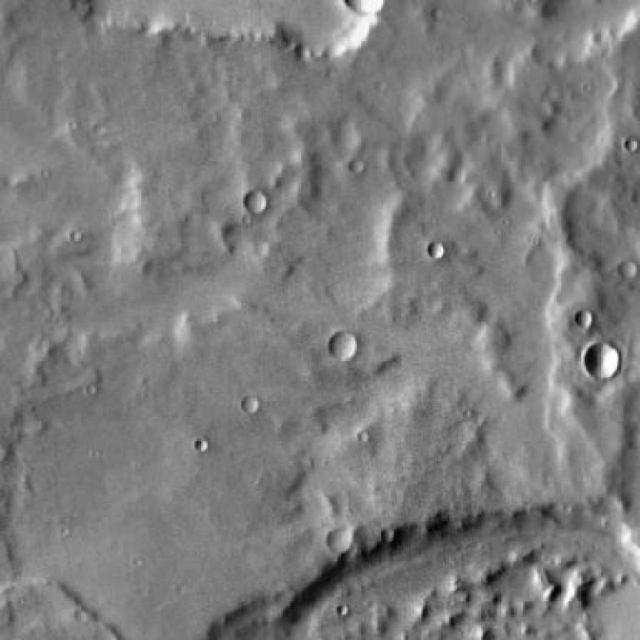crater: (244, 517, 640, 640), (276, 0, 395, 63), (584, 342, 621, 380), (329, 332, 356, 359), (246, 188, 269, 212), (326, 530, 348, 552), (242, 396, 262, 416), (429, 242, 446, 260), (577, 310, 594, 327)
